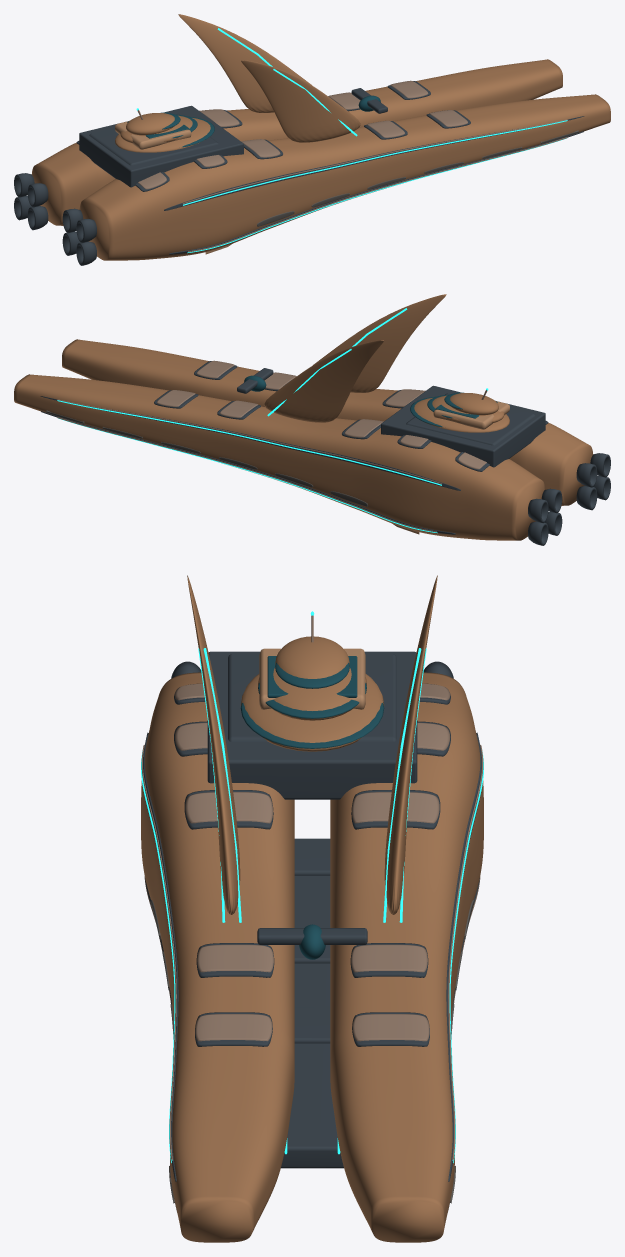
File: assault-carrier.glb
The picture shows the model from 3 angles, top to bottom: view 1: azimuth 30°, elevation 25°; view 2: azimuth 150°, elevation 25°; view 3: azimuth 270°, elevation 25°; orthographic projection. The views are drawn at different scales.
Visible parts, largest first — view 1: Port hull, Starboard hull, Magnetic sail / swept foil, Aft bridge / span, Magnetic sail / swept foil.001, Upper data conduit / seated channel, Bridge / stepped armor deck, Bridge / armored tier, Bridge / armored tier.002, Lower data conduit / seated channel, Upper data conduit / cyan inset, Bridge / armored watch deck (+17 smaller); view 2: Starboard hull, Port hull, Magnetic sail / swept foil.001, Aft bridge / span, Magnetic sail / swept foil, Upper data conduit / seated channel.001, Bridge / stepped armor deck, Bridge / armored tier, Bridge / armored tier.002, Lower data conduit / seated channel.001, Upper data conduit / cyan inset.001, Bridge / armored watch deck (+17 smaller); view 3: Port hull, Starboard hull, Aft bridge / span, Catamaran / axial hangar floor, Magnetic sail / swept foil, Magnetic sail / swept foil.001, Bridge / stepped armor deck, Bridge / armored tier, Bridge / armored tier.002, Flight deck / shutter.002, Flight deck / shutter.007, Flight deck / shutter.008 (+14 smaller).
Boxes of the visible parts, x1,y1,x2,y2 form: Port hull: (79,94,610,260); Starboard hull: (31,59,562,225); Magnetic sail / swept foil: (241,60,360,142); Aft bridge / span: (79,105,243,187); Magnetic sail / swept foil.001: (178,14,311,112); Upper data conduit / seated channel: (164,116,584,210); Bridge / stepped armor deck: (89,113,218,165); Bridge / armored tier: (115,118,210,152); Bridge / armored tier.002: (126,113,174,135); Lower data conduit / seated channel: (169,131,583,254); Upper data conduit / cyan inset: (183,120,567,205); Bridge / armored watch deck: (115,121,191,149); Starboard hull: (14,374,545,540); Port hull: (62,339,593,505); Magnetic sail / swept foil.001: (264,340,383,422); Aft bridge / span: (381,385,545,467); Magnetic sail / swept foil: (313,294,446,392); Upper data conduit / seated channel.001: (40,396,460,490); Bridge / stepped armor deck: (406,393,535,445); Bridge / armored tier: (414,398,509,432); Bridge / armored tier.002: (450,393,498,415); Lower data conduit / seated channel.001: (41,411,455,534); Upper data conduit / cyan inset.001: (57,400,441,485); Bridge / armored watch deck: (433,401,509,429); Port hull: (141,672,294,1242); Starboard hull: (330,672,483,1242); Aft bridge / span: (207,651,417,799); Catamaran / axial hangar floor: (281,876,343,1168); Magnetic sail / swept foil: (187,575,240,914); Magnetic sail / swept foil.001: (384,575,437,914); Bridge / stepped armor deck: (228,654,396,741); Bridge / armored tier: (240,674,384,751); Bridge / armored tier.002: (275,636,349,678); Flight deck / shutter.002: (185,792,273,823); Flight deck / shutter.007: (351,792,439,823); Flight deck / shutter.008: (351,944,427,972).
Bounding box in the file's own units: 1300 × 449 × 365.
